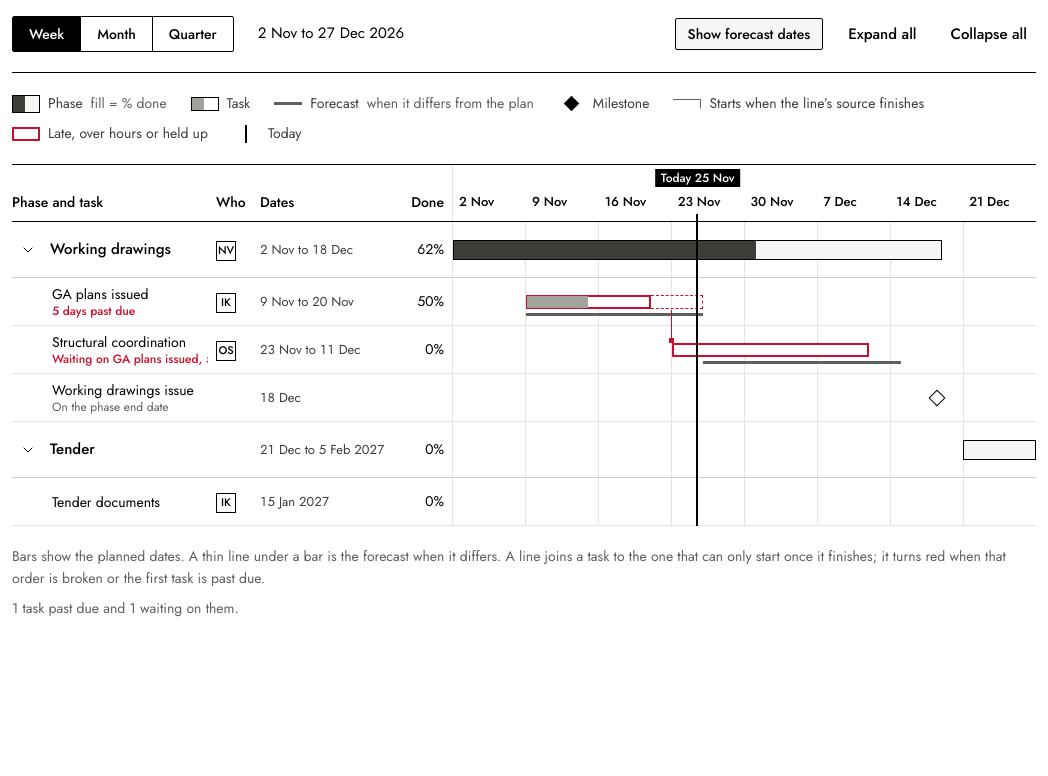
Test: project timeline in live mode › a drag is a draft until Save, which PUTs the task dates with cascade, and lists what moved
Expected: the table is shown, [12,164,1036,526]
Press the mouse on the button named "Structural coordination, Omar Siddiqui, 23 Nov to 11 Dec 202" at [770, 350], box [672,343,869,357]
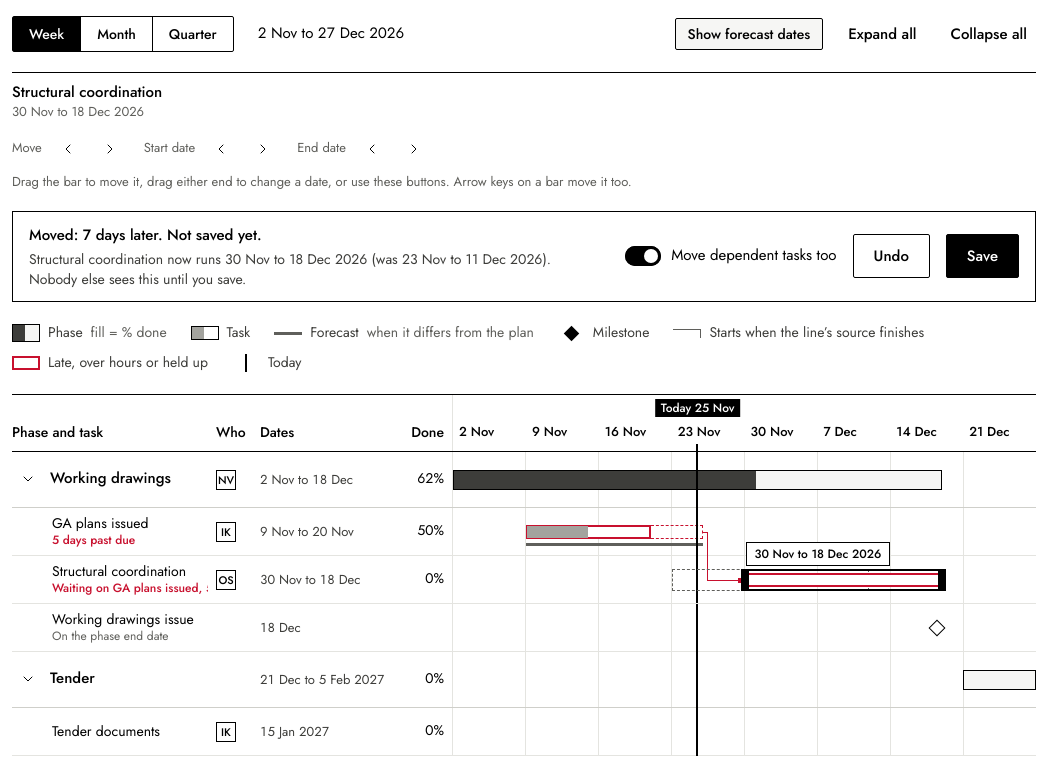
Result: the text "Moved: 7 days later. Not saved yet." is shown at [29,224,262,246]
Result: the text "Structural coordination now runs 30 Nov to 18 Dec 2026 (was 23 Nov to 11 Dec 2026)" is shown at [29,249,551,289]
Result: the switch labelled "Move dependent tasks too" is checked at [625,244,837,268]
Click the button "Save" at [982, 256], box [946,234,1019,278]
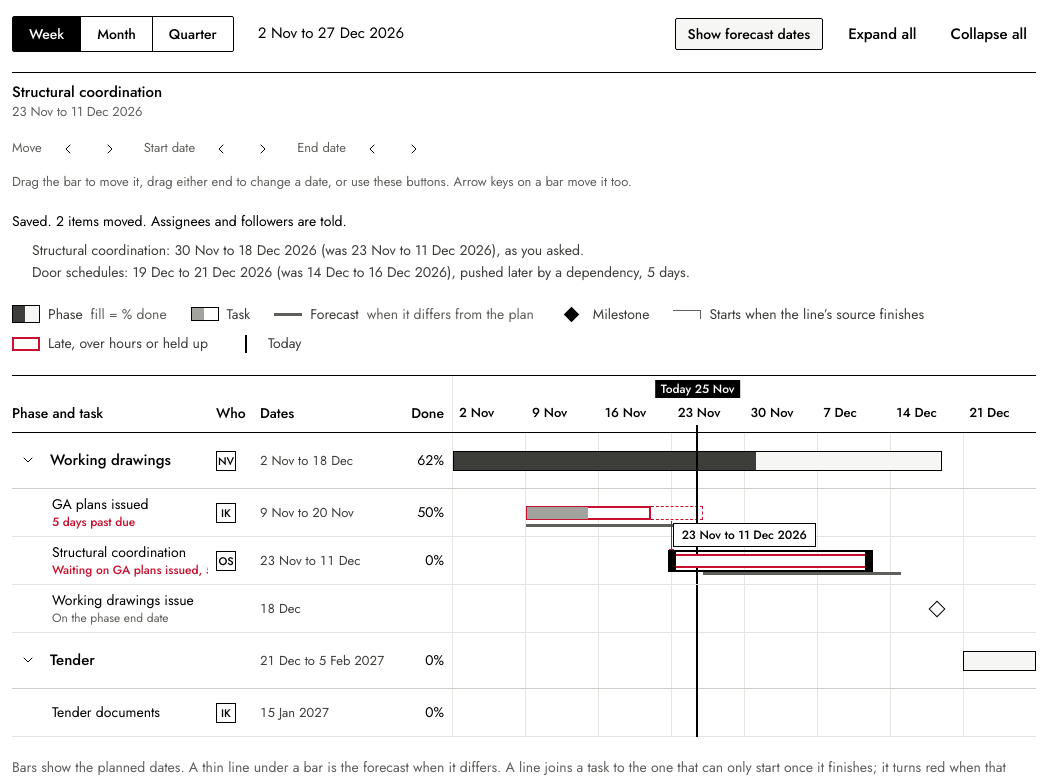
Result: the list item that starts with "Door schedules" is shown at [32,262,690,282]
Result: the text "Not saved yet" is gone
